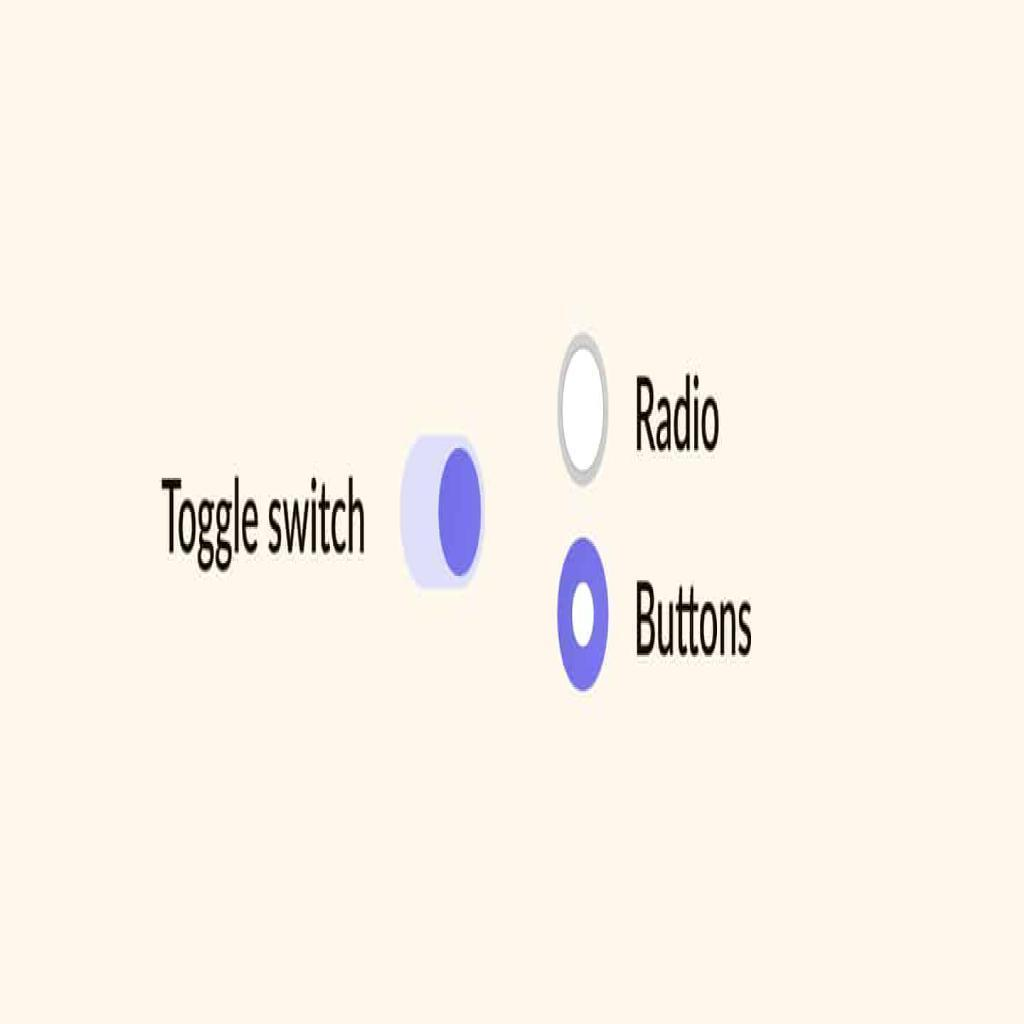label: (155, 468, 371, 563), (632, 574, 757, 663), (632, 369, 724, 456)
radio: (548, 332, 617, 490), (551, 532, 618, 689)
switch: (398, 433, 491, 586)
